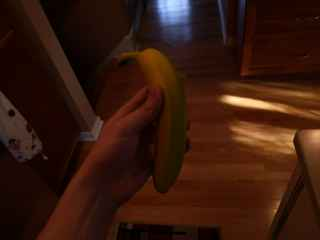banana: (108, 46, 191, 198)
